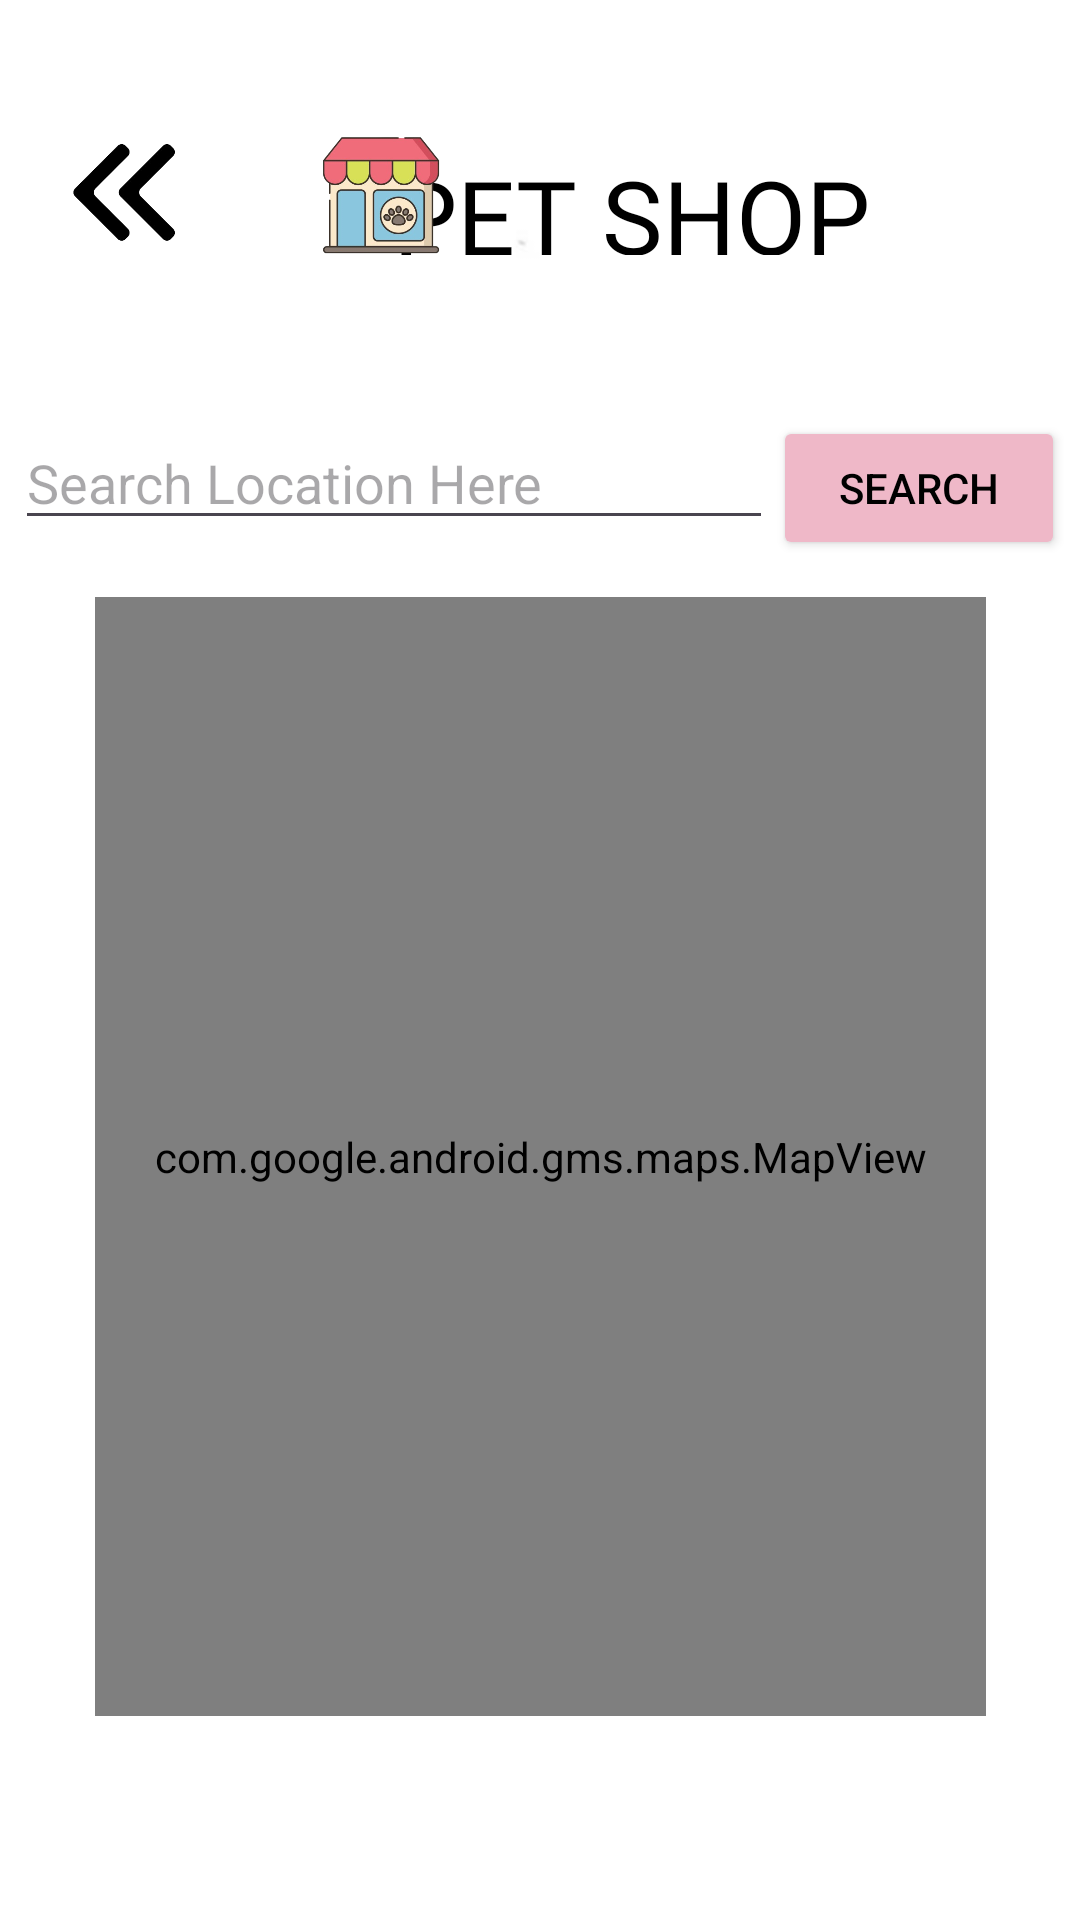

Icons on this 1080x1920 Android screen, each with its box as rect(x1, y1, x2, y2):
back: rect(73, 144, 175, 241)
